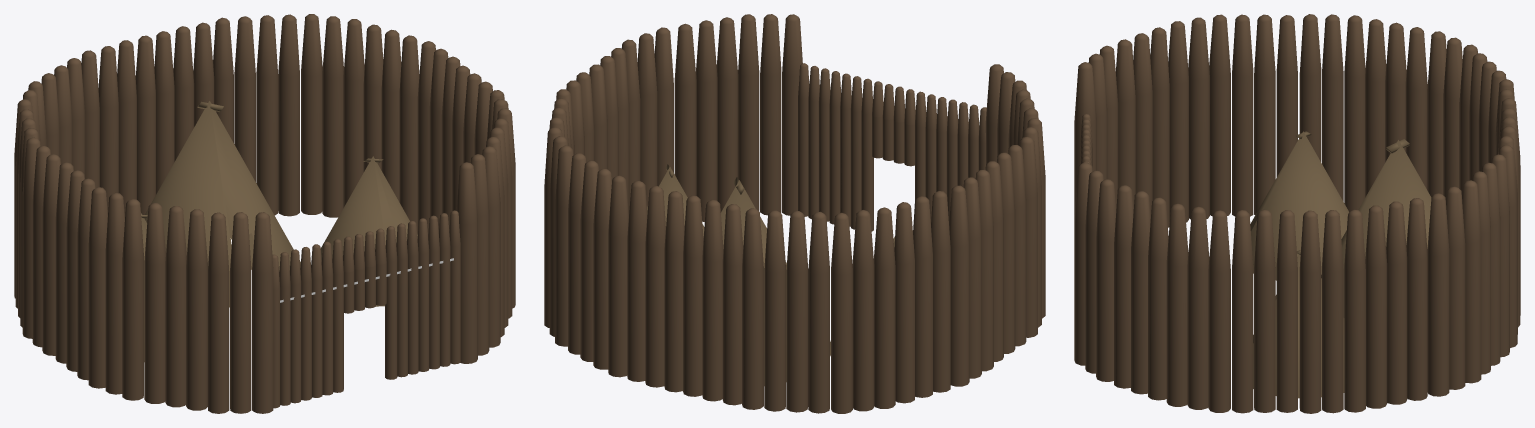
The picture shows the model from 3 angles, left to right: view 1: azimuth 30°, elevation 25°; view 2: azimuth 150°, elevation 25°; view 3: azimuth 270°, elevation 25°; orthographic projection.
Parts seen in each view (by area): view 1: Icosphere, Cone; view 2: Icosphere, Cone; view 3: Icosphere, Cone.
Part boxes in pixels (x1=…): Icosphere: x1=14, y1=14, x2=515, y2=413; Cone: x1=141, y1=101, x2=417, y2=361; Icosphere: x1=544, y1=14, x2=1045, y2=413; Cone: x1=647, y1=164, x2=894, y2=385; Icosphere: x1=1074, y1=14, x2=1520, y2=413; Cone: x1=1250, y1=131, x2=1431, y2=398.
Size of the model in its own units: 2391 by 1082 by 2189.
